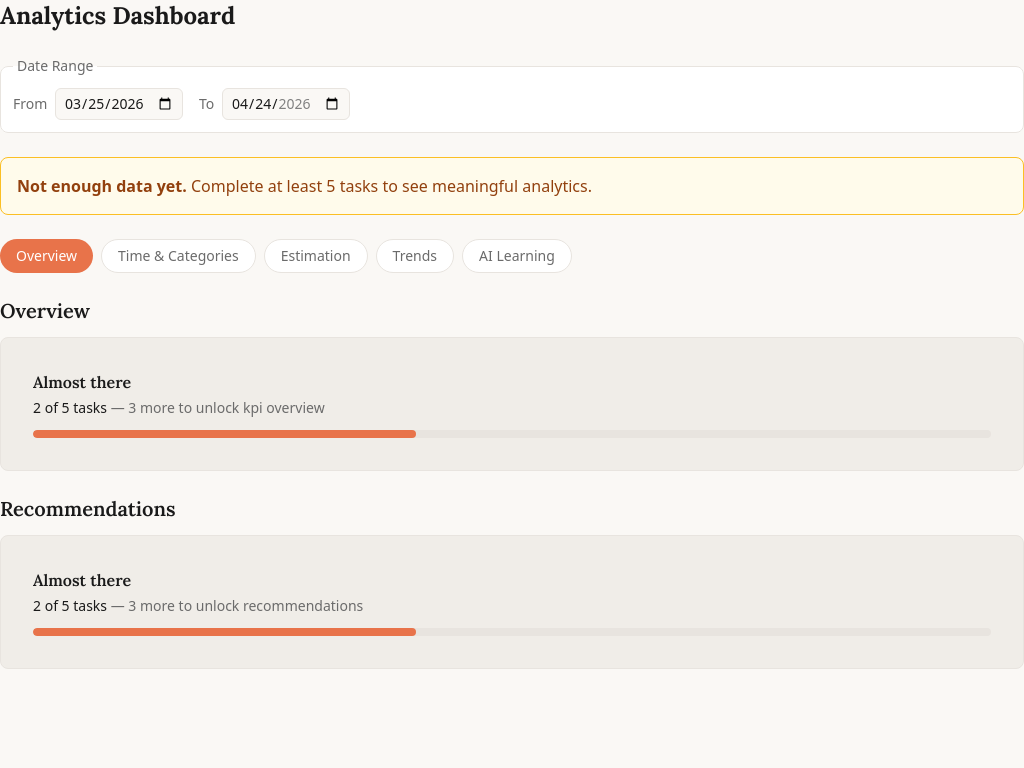
Test: AnalyticsDashboard › low-data states › shows Insights low-data state when totalCompleted < 10
The width and height of the screenshot is (1024, 768).
// Insights is on the "AI Learning" tab
Click the button "AI Learning" at {"x": 517, "y": 256}, box [462,239,572,273]
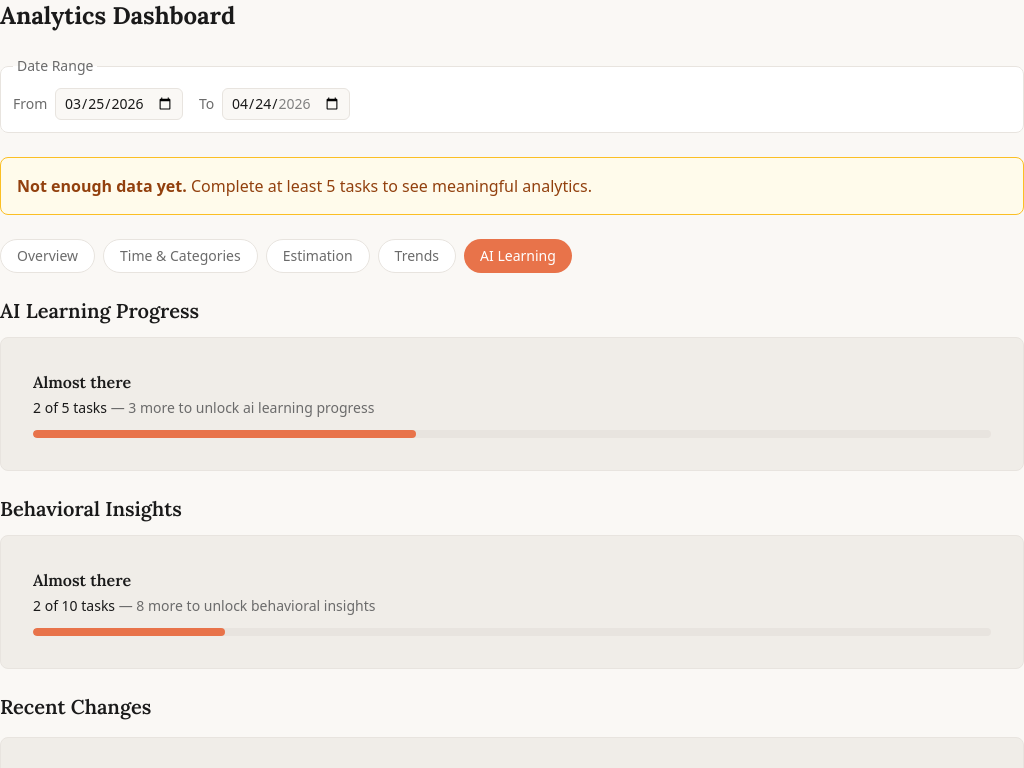
Now the element "Behavioral Insights" is shown, box [0,495,1023,669]
Now the text "2 of 10 tasks — 8 more to unlock behavioral insights" is shown, box [33,596,375,615]
